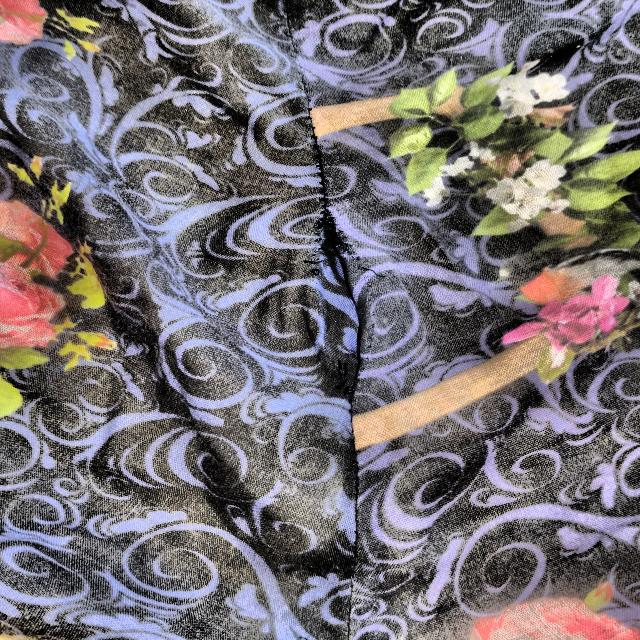seam: (279, 187, 402, 433)
